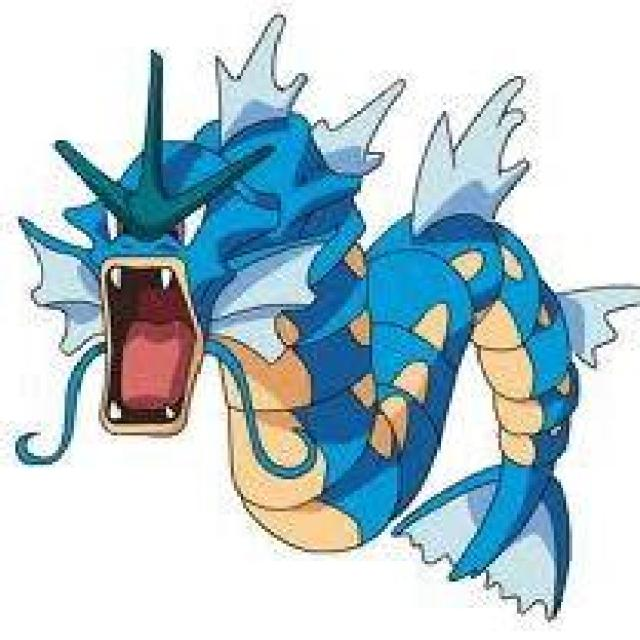Gyarados: (39, 84, 575, 544)
